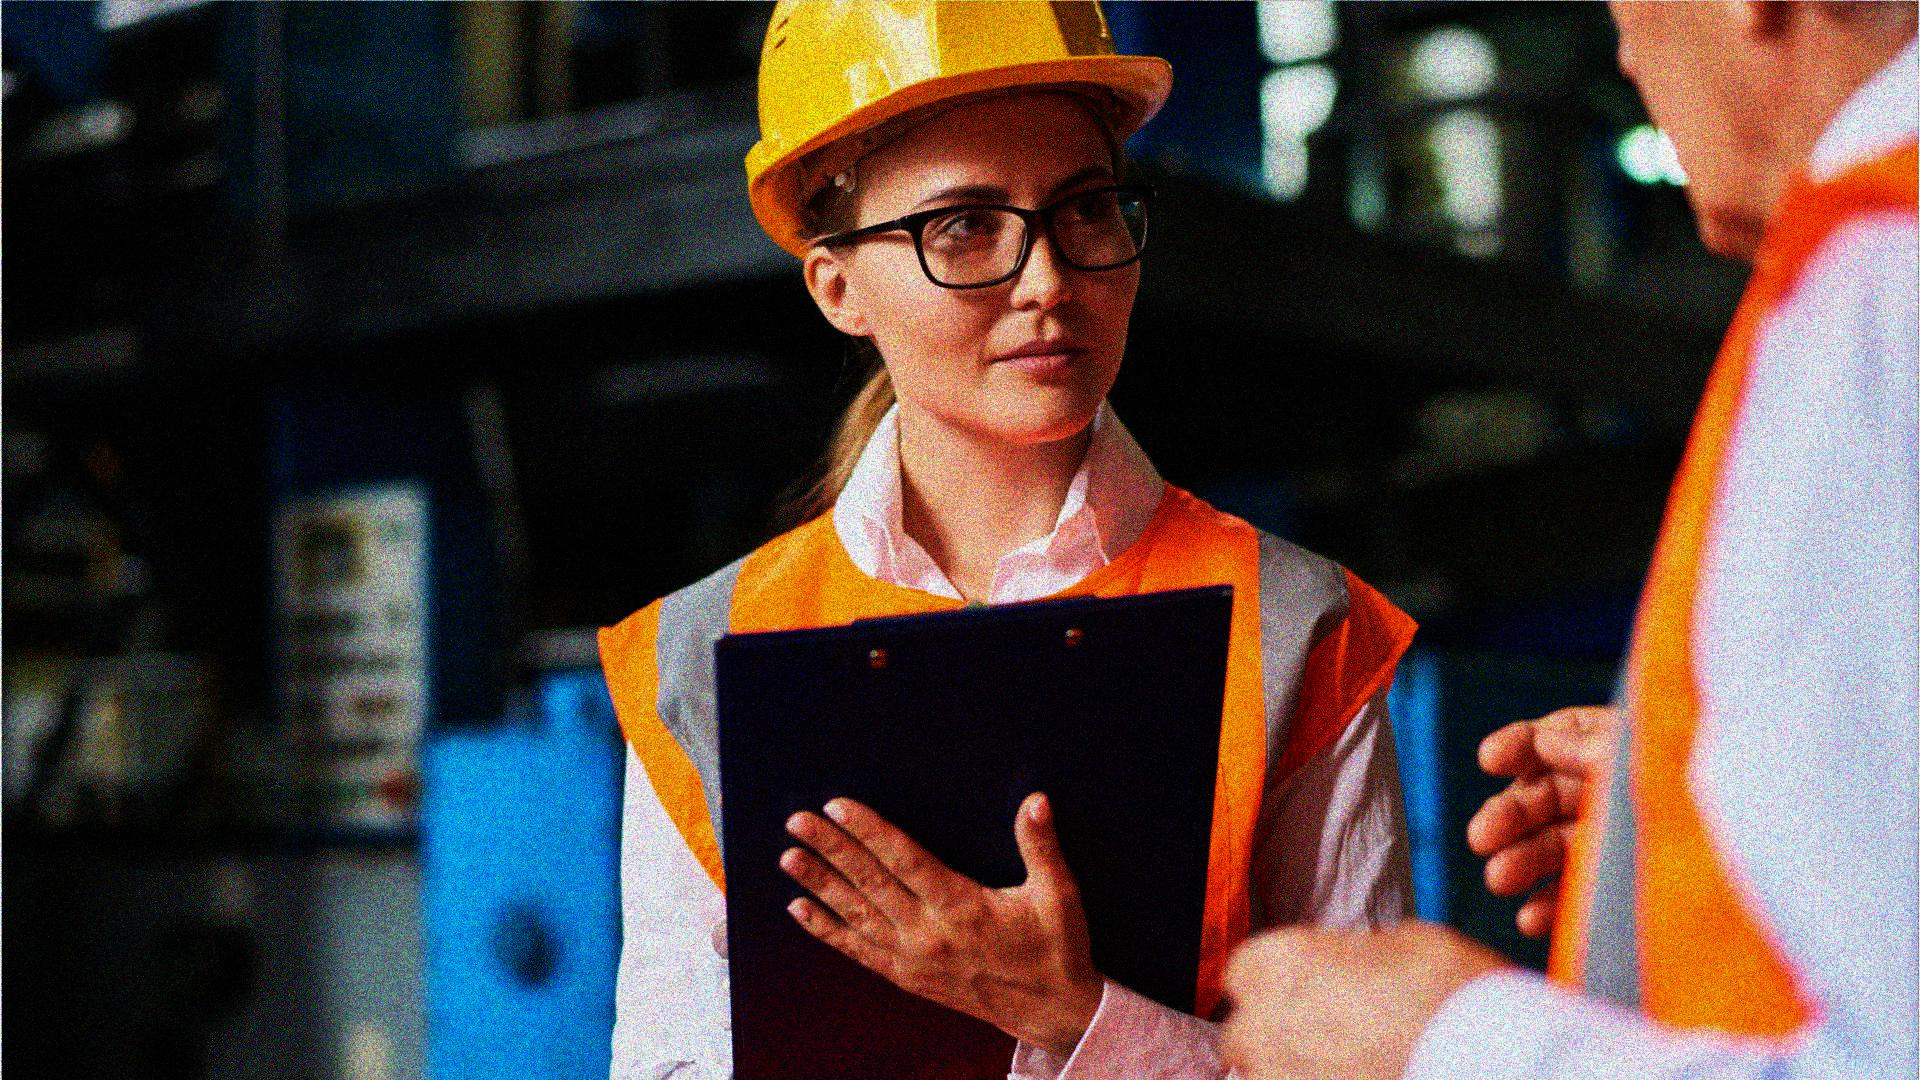helmet: (735, 1, 1178, 440)
